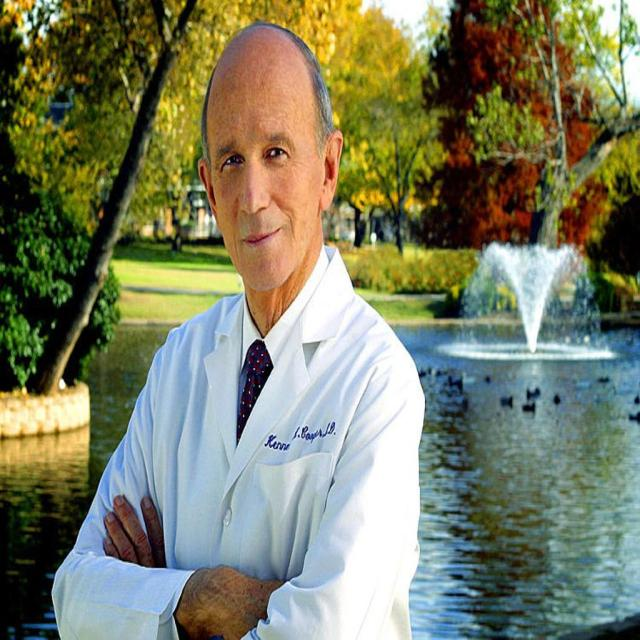Face: (197, 34, 345, 291)
